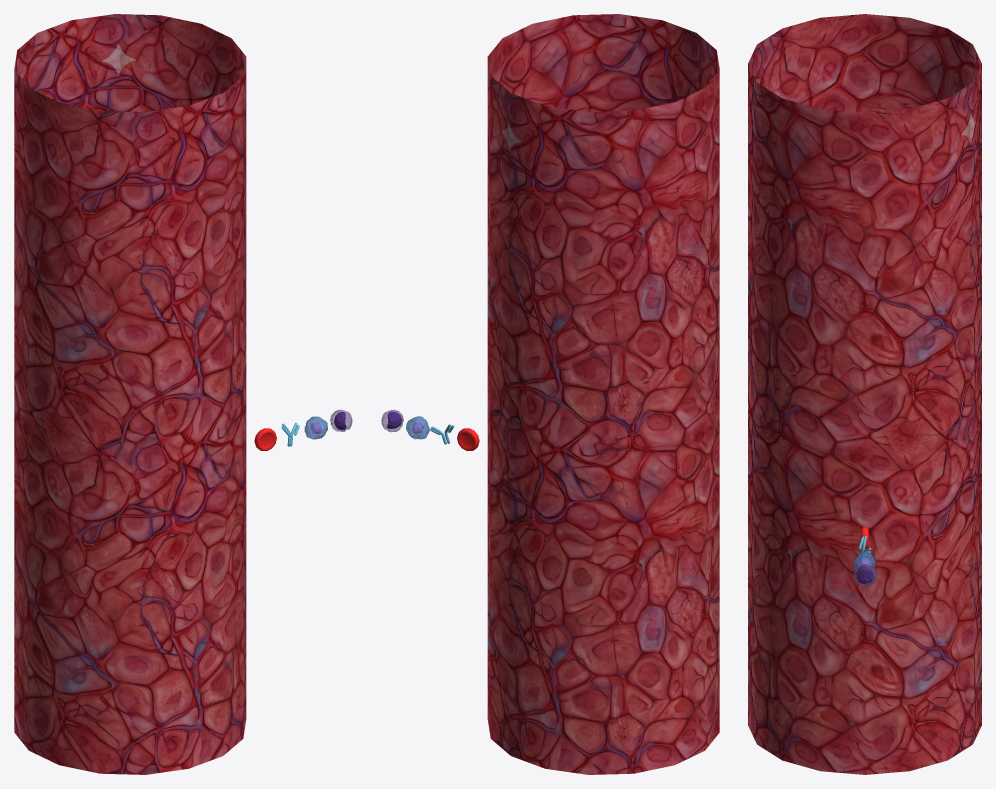
File: Arterias.fbx
3 views of the same model, side by side, from view 1: azimuth 30°, elevation 25°; view 2: azimuth 150°, elevation 25°; view 3: azimuth 270°, elevation 25° (orthographic).
Visible parts, largest first — view 1: Vena; view 2: Vena; view 3: Vena, linfocitos.
Part boxes in pixels (<box>): Vena: <box>14,14,246,774</box>; Vena: <box>487,14,719,774</box>; Vena: <box>748,14,981,774</box>; linfocitos: <box>852,564,877,587</box>.
Bounding box in the file's own units: 3182 × 6250 × 2000.
